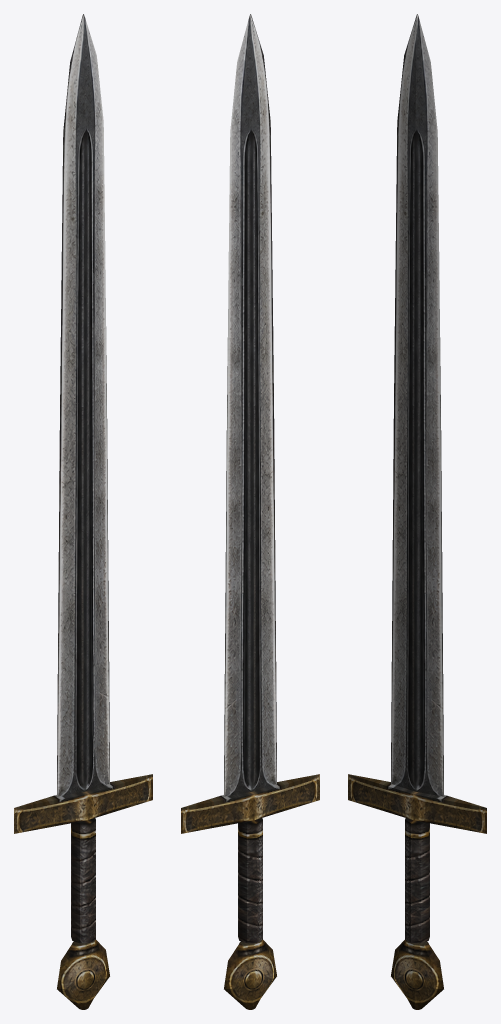
File: mm8_m656_sword.glb
3 renders of one model, left to right at view 1: azimuth 30°, elevation 25°; view 2: azimuth 210°, elevation 25°; view 3: azimuth 330°, elevation 25°, orthographic.
Parts seen in each view (by area): view 1: Sword; view 2: Sword; view 3: Sword.
Boxes of the visible parts, <box> form: Sword: <box>14,14,152,1009</box>; Sword: <box>181,14,319,1009</box>; Sword: <box>348,14,486,1009</box>.
Bounding box in the file's own units: 0.13 × 0.89 × 0.021.
1 material, 1 textured.
